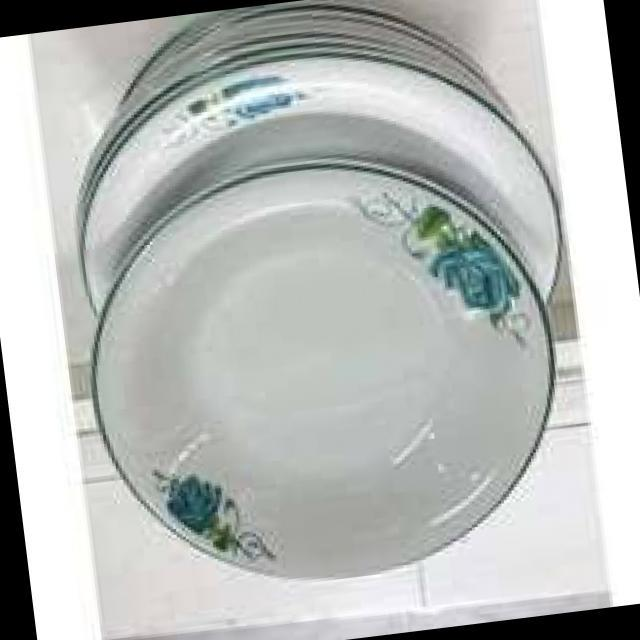plate: (56, 105, 592, 622)
